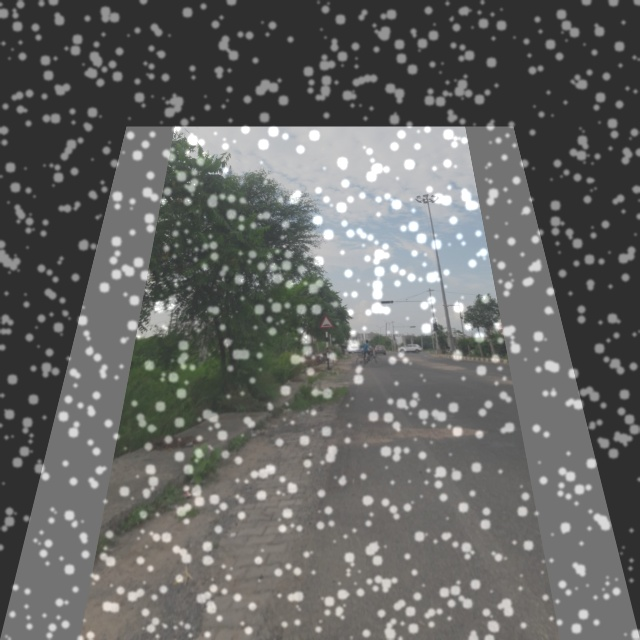Hump_or_Rough_Road: (318, 315, 333, 329)
